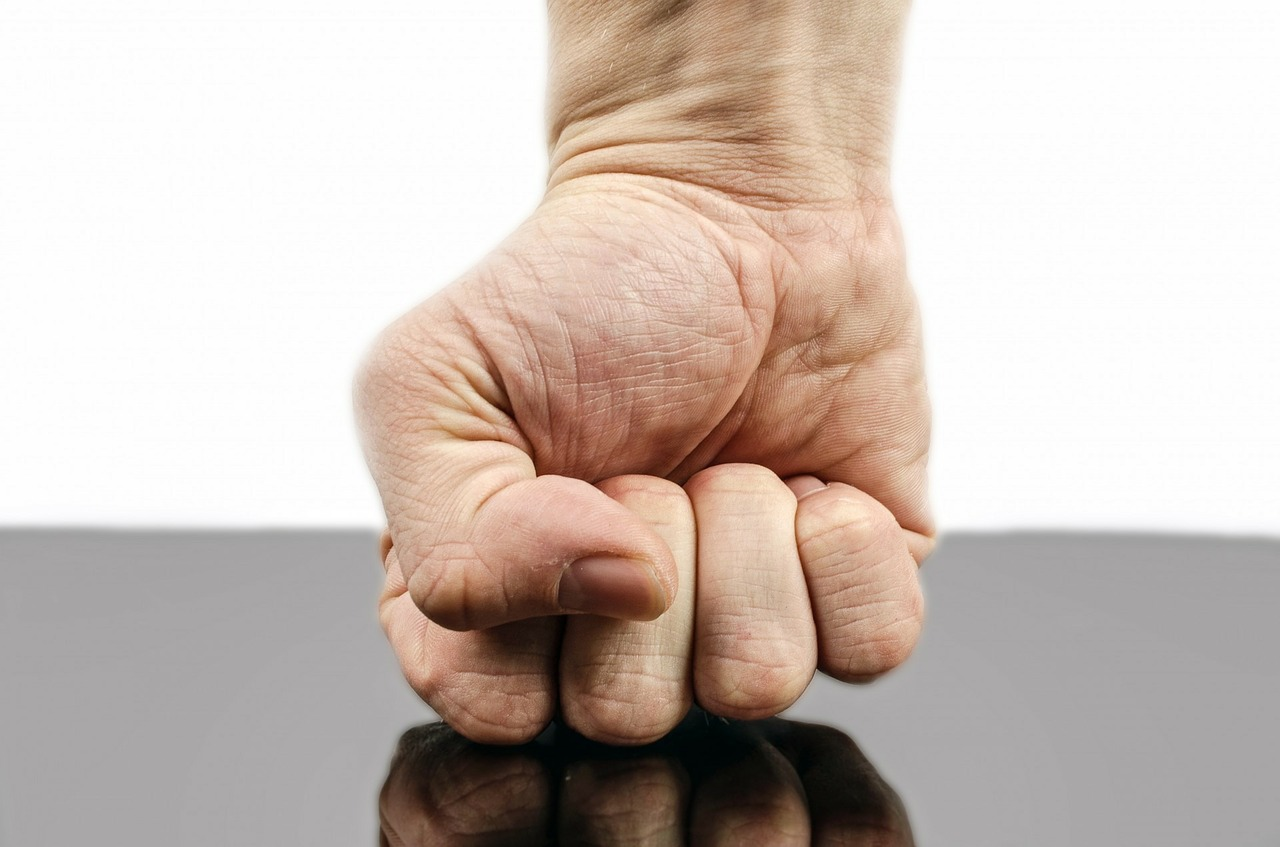fist: (384, 227, 953, 735)
